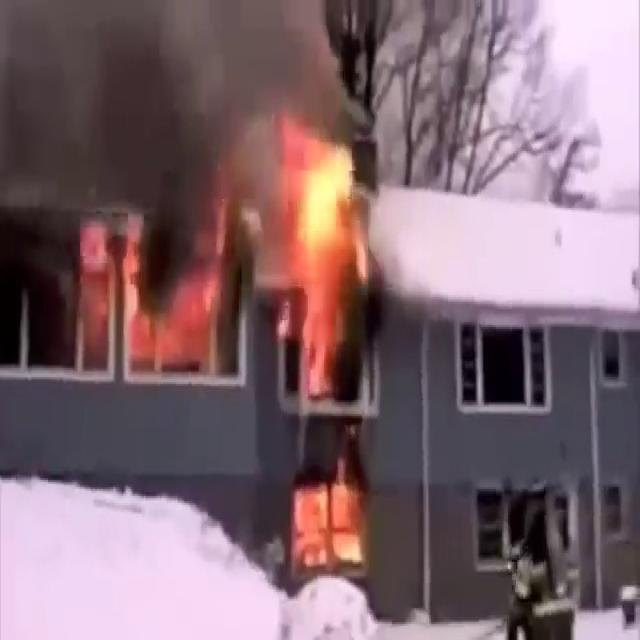Fire: (266, 113, 374, 404)
Smoke: (0, 0, 353, 325)
